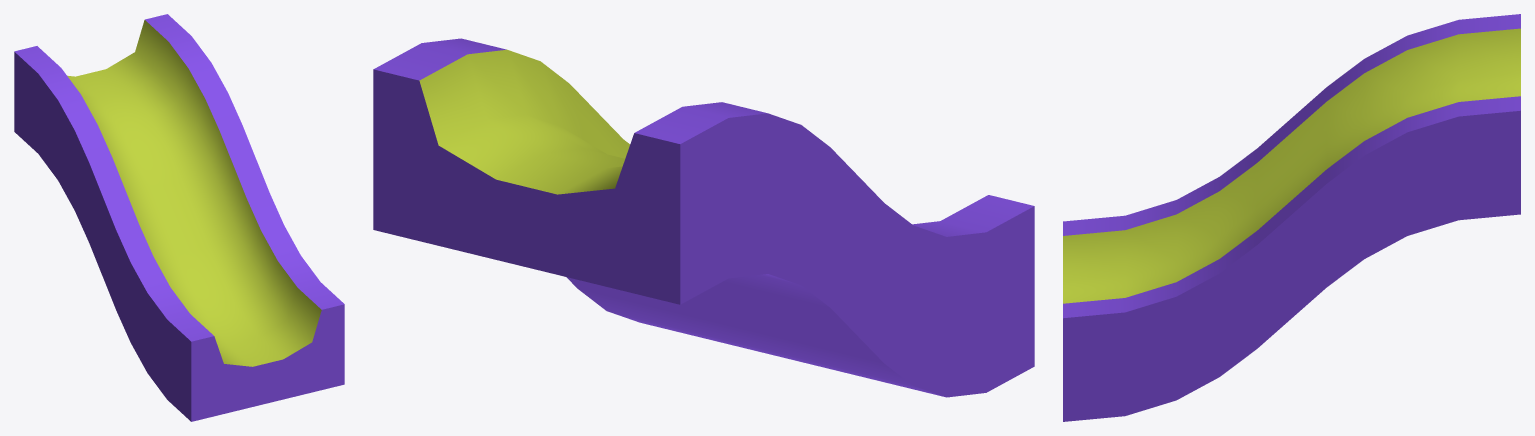
The model's file is ramp_long_C-col.dae.
The picture shows the model from 3 angles, left to right: view 1: azimuth 30°, elevation 25°; view 2: azimuth 150°, elevation 25°; view 3: azimuth 270°, elevation 25°; orthographic projection. The views are drawn at different scales.
Parts seen in each view (by area): view 1: ramp_long_C-col; view 2: ramp_long_C-col; view 3: ramp_long_C-col.
Part boxes in pixels (x1,y1,x2,y2): ramp_long_C-col: [14, 14, 344, 421]; ramp_long_C-col: [373, 38, 1034, 397]; ramp_long_C-col: [1063, 14, 1520, 421].
Bounding box in the file's own units: 1 × 2 × 1.5.
